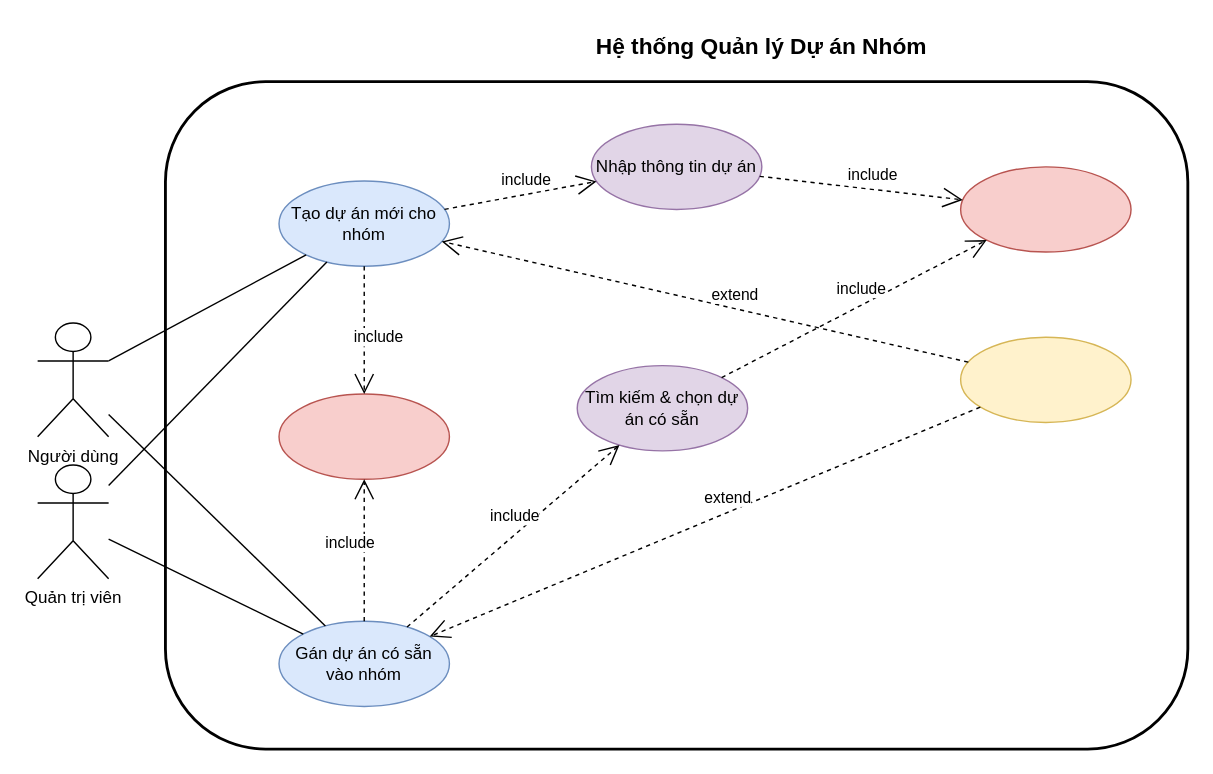
This 1213x774 diagram has some shape labels left out. Here are the shapes that lost their labels. From the top down, the centre of each, then its label:
pixel 1045 208: Xác thực dự án
pixel 1045 379: Thông báo kết quả
pixel 363 436: Kiểm tra quyền thành viên
